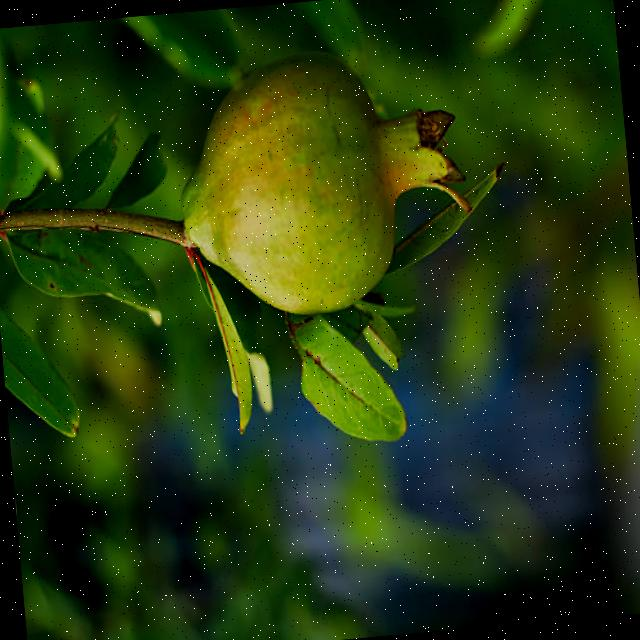Unripe: (166, 39, 475, 320)
